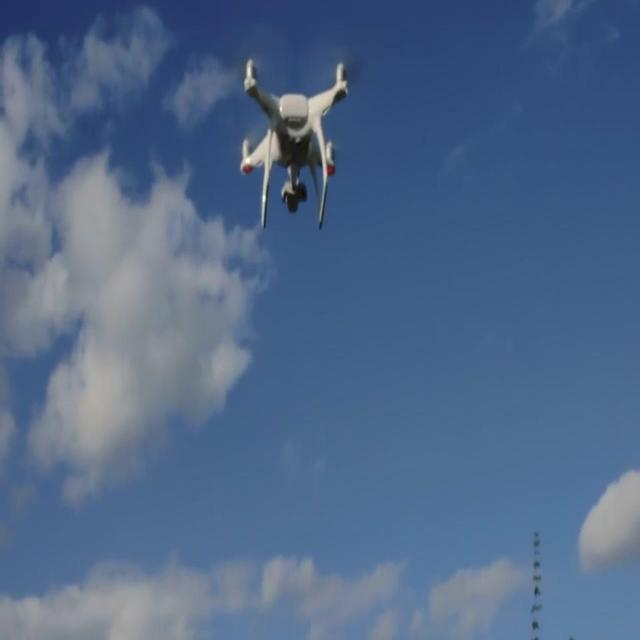UAV: (240, 58, 356, 228)
